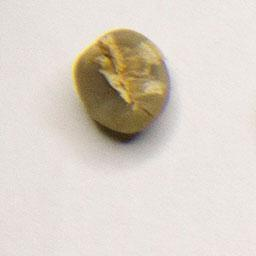premium: (71, 26, 173, 138)
